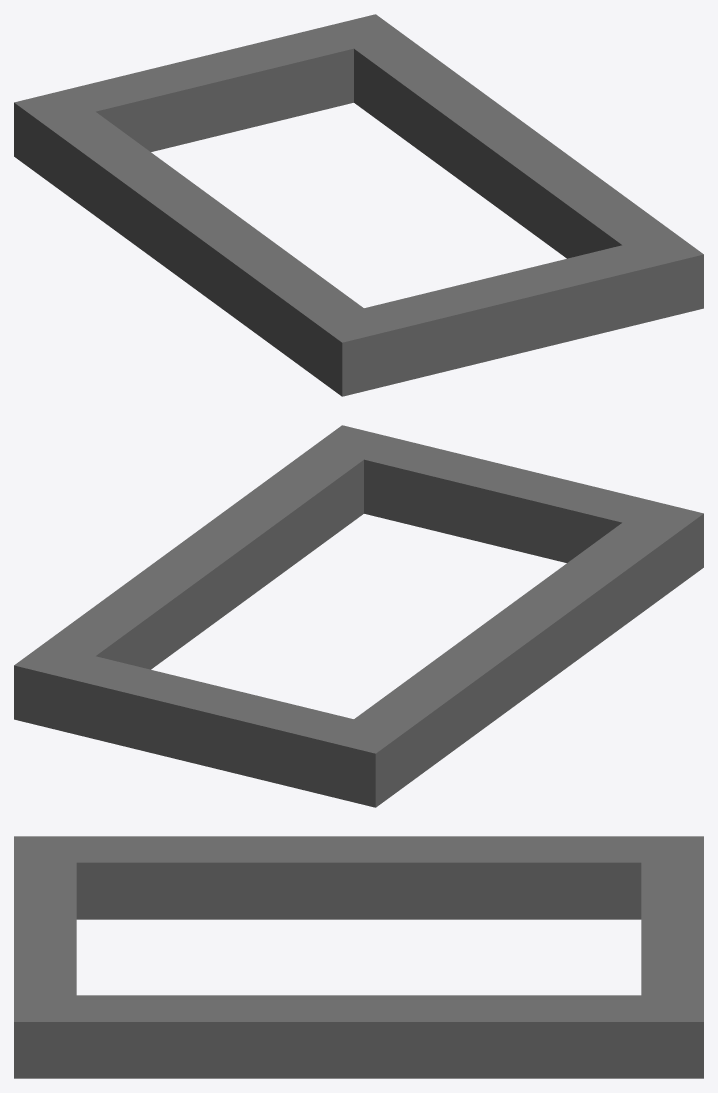
File: Walls.obj
3 views of the same model, one above another, from view 1: azimuth 30°, elevation 25°; view 2: azimuth 150°, elevation 25°; view 3: azimuth 270°, elevation 25° (orthographic). The views are drawn at different scales.
Size of the model in its own units: 0.7 by 0.1 by 1.1.
Materials: 1 (1 with a texture image).
